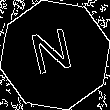N_S: (30, 26, 80, 84)
